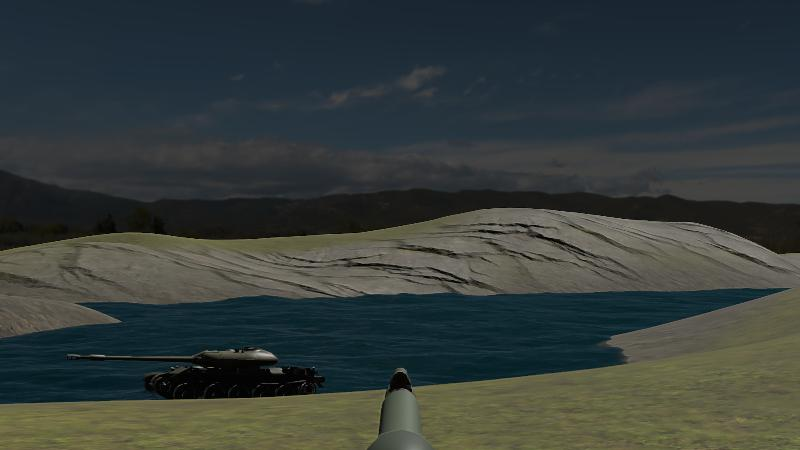Tank: (62, 340, 327, 409)
